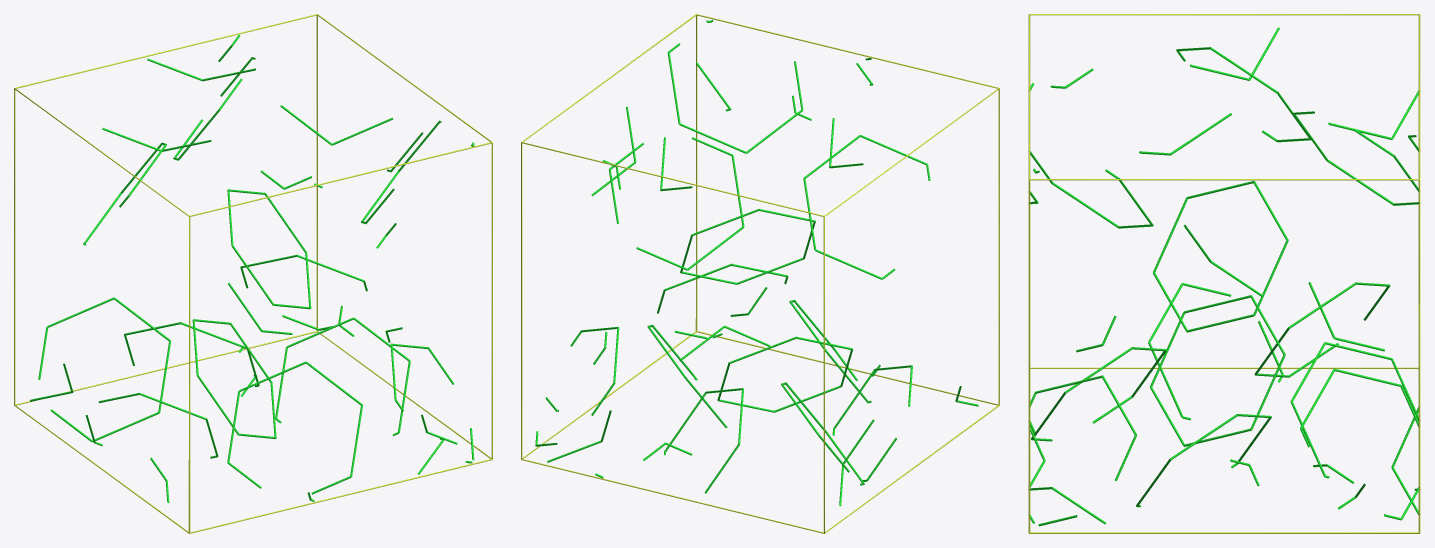
File: DDD000_test0.glb
The picture shows the model from 3 angles, left to right: view 1: azimuth 30°, elevation 25°; view 2: azimuth 150°, elevation 25°; view 3: azimuth 270°, elevation 25°; orthographic projection. The views are drawn at different scales.
Parts seen in each view (by area): view 1: Shape_IndexedLineSet.001, Shape_IndexedLineSet; view 2: Shape_IndexedLineSet.001, Shape_IndexedLineSet; view 3: Shape_IndexedLineSet.001, Shape_IndexedLineSet.
Boxes of the visible parts, box(x1,y1,x2,y2) form: Shape_IndexedLineSet.001: box(29, 35, 474, 502); Shape_IndexedLineSet: box(14, 14, 492, 533); Shape_IndexedLineSet.001: box(535, 20, 978, 506); Shape_IndexedLineSet: box(521, 14, 999, 533); Shape_IndexedLineSet.001: box(1028, 27, 1420, 526); Shape_IndexedLineSet: box(1028, 14, 1420, 533).
Bounding box in the file's own units: 10.05 × 10.05 × 10.05.
